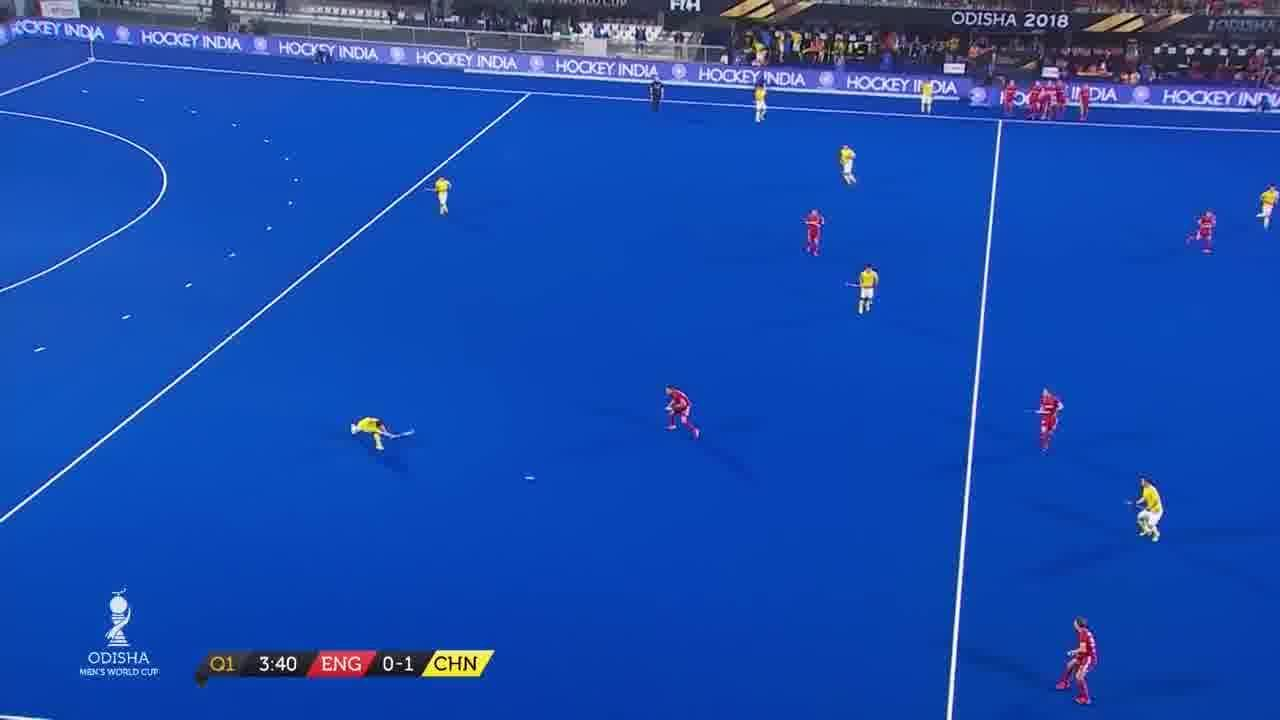ball: (514, 460, 546, 494)
